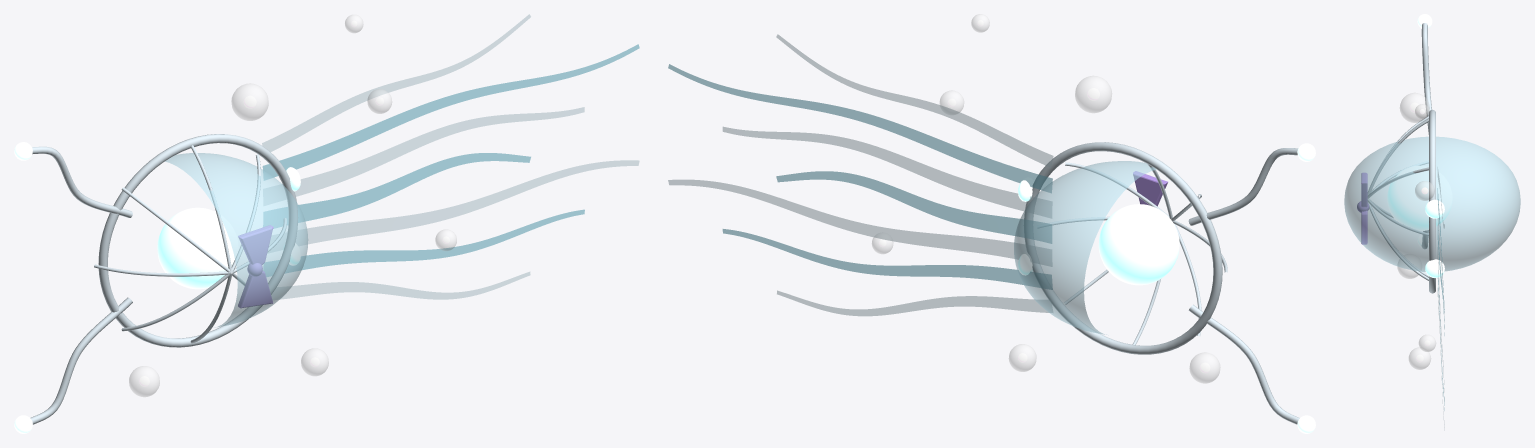
Rendered from lethe.glb.
3 views of the same model, side by side, from view 1: azimuth 30°, elevation 25°; view 2: azimuth 150°, elevation 25°; view 3: azimuth 270°, elevation 25° (orthographic). The views are drawn at different scales.
Visible parts, largest first — view 1: bell, rim, core, river_2, river_5, river_4, river_3, river_1, river_6, river_0, tendril_R, bubble_0 (+5 smaller); view 2: bell, rim, core, river_2, river_5, river_4, river_3, river_1, river_0, river_6, tendril_R, bubble_0 (+4 smaller); view 3: bell, core, rim, bubble_0, tendril_L, bubble_1, bubble_3, rib_7, rib_2, bubble_2, engine_L_glow, engine_R_glow (+5 smaller).
Part boxes in pixels (x1,y1,x2,y2): bell: (165, 153, 308, 327); rim: (98, 134, 298, 347); core: (157, 207, 238, 289); river_2: (268, 160, 639, 252); river_5: (262, 44, 639, 180); river_4: (263, 107, 584, 205); river_3: (263, 153, 530, 228); river_1: (263, 209, 584, 276); river_6: (262, 14, 530, 151); river_0: (271, 272, 530, 299); tendril_R: (30, 297, 132, 424); bubble_0: (231, 83, 268, 120); bell: (1014, 161, 1156, 334); rim: (1024, 142, 1222, 354); core: (1098, 204, 1179, 285); river_2: (668, 179, 1052, 266); river_5: (668, 64, 1052, 192); river_4: (722, 126, 1052, 218); river_3: (776, 171, 1051, 243); river_1: (722, 229, 1052, 289); river_0: (777, 290, 1052, 316); river_6: (776, 34, 1053, 167); tendril_R: (1188, 304, 1299, 424); bubble_0: (1075, 76, 1111, 112); bell: (1344, 136, 1520, 271); core: (1387, 165, 1452, 230); rim: (1429, 109, 1435, 293); bubble_0: (1400, 93, 1429, 122); tendril_L: (1421, 23, 1431, 134); bubble_1: (1409, 347, 1430, 369); bubble_3: (1397, 254, 1421, 278); rib_7: (1367, 202, 1428, 280); rib_2: (1367, 118, 1428, 194); bubble_2: (1415, 181, 1434, 200); engine_L_glow: (1425, 199, 1444, 218); engine_R_glow: (1425, 259, 1444, 277).
Size of the model in its own units: 937 by 490 by 280.
